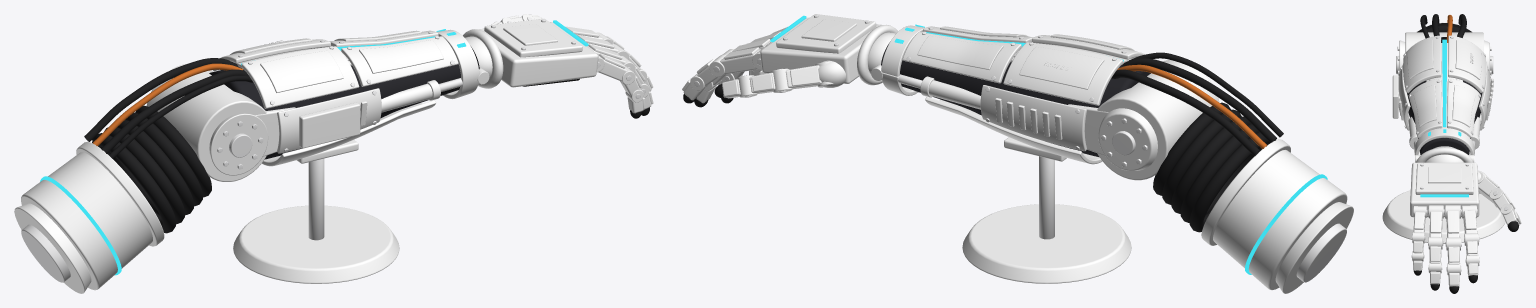
The model's file is cyber_arm_closed.glb.
The picture shows the model from 3 angles, left to right: view 1: azimuth 30°, elevation 25°; view 2: azimuth 150°, elevation 25°; view 3: azimuth 270°, elevation 25°; orthographic projection. The views are drawn at different scales.
Visible parts, largest first — view 1: stand_base, upper_cuff, elbow_hinge, palm, core_muscle, dorsal_rear_L, elbow_cap, dorsal_rear_L_inlay, side_L, upper_end, actuator_housing, dorsal_front_L (+26 smaller); view 2: stand_base, upper_cuff, elbow_hinge, side_R, core_muscle, dorsal_rear_R, elbow_cap.001, dorsal_rear_R_inlay, palm, upper_end, dorsal_front_R, hand_plate (+28 smaller); view 3: stand_base, hand_plate, palm, dorsal_rear_L, dorsal_rear_R, dorsal_front_L, dorsal_front_R, dorsal_rear_L_inlay, dorsal_rear_R_inlay, dorsal_front_R_inlay, dorsal_front_L_inlay, core_muscle (+53 smaller).
Boxes of the visible parts, <box> form: stand_base: <box>233,205,399,283</box>; upper_cuff: <box>21,152,152,290</box>; elbow_hinge: <box>146,64,266,181</box>; palm: <box>477,22,598,87</box>; core_muscle: <box>209,47,479,159</box>; dorsal_rear_L: <box>241,46,359,108</box>; elbow_cap: <box>209,113,268,175</box>; dorsal_rear_L_inlay: <box>260,50,343,92</box>; side_L: <box>277,88,381,153</box>; upper_end: <box>14,203,91,293</box>; actuator_housing: <box>299,102,360,148</box>; dorsal_front_L: <box>341,36,458,86</box>; stand_base: <box>962,204,1131,283</box>; upper_cuff: <box>1213,150,1347,290</box>; elbow_hinge: <box>1097,60,1219,180</box>; side_R: <box>980,85,1086,151</box>; core_muscle: <box>881,42,1150,157</box>; dorsal_rear_R: <box>1003,42,1122,105</box>; elbow_cap.001: <box>1098,108,1157,170</box>; dorsal_rear_R_inlay: <box>1019,46,1104,89</box>; palm: <box>760,17,882,83</box>; upper_end: <box>1275,202,1353,293</box>; dorsal_front_R: <box>902,32,1021,83</box>; hand_plate: <box>776,14,876,53</box>; stand_base: <box>1382,190,1505,243</box>; hand_plate: <box>1415,163,1473,194</box>; palm: <box>1410,162,1479,217</box>; dorsal_rear_L: <box>1403,35,1441,93</box>; dorsal_rear_R: <box>1448,35,1486,92</box>; dorsal_front_L: <box>1408,79,1442,137</box>; dorsal_front_R: <box>1447,79,1480,137</box>; dorsal_rear_L_inlay: <box>1407,40,1433,79</box>; dorsal_rear_R_inlay: <box>1455,40,1481,79</box>; dorsal_front_R_inlay: <box>1452,85,1475,127</box>; dorsal_front_L_inlay: <box>1413,85,1436,127</box>; core_muscle: <box>1407,37,1482,154</box>.
Size of what is drawn, in the model's own units: 0.6482 by 0.2046 by 0.1658.
